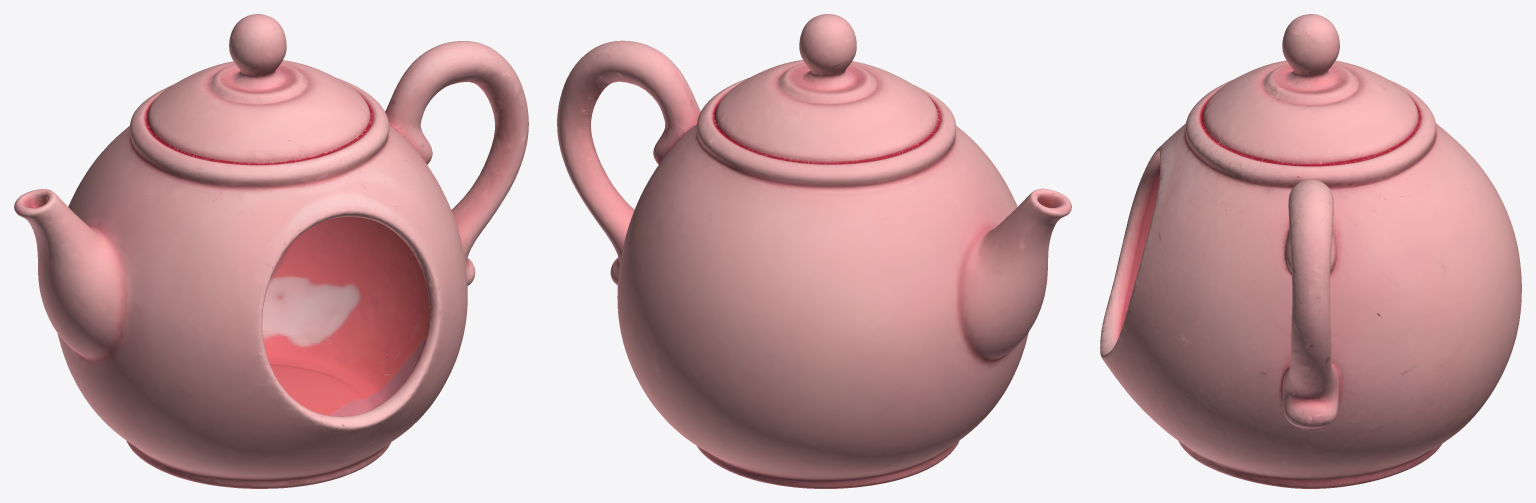
Rendered from raw.glb.
3 views of the same model, side by side, from view 1: azimuth 30°, elevation 25°; view 2: azimuth 150°, elevation 25°; view 3: azimuth 270°, elevation 25° (orthographic).
Visible parts, largest first — view 1: Mesh_0; view 2: Mesh_0; view 3: Mesh_0.
Part boxes in pixels (x1,y1,x2,y2): Mesh_0: (14, 14, 528, 488); Mesh_0: (557, 14, 1071, 488); Mesh_0: (1100, 14, 1521, 488).
Bounding box in the file's own units: 1.91 × 1.5 × 1.38.
1 material, 1 textured.
